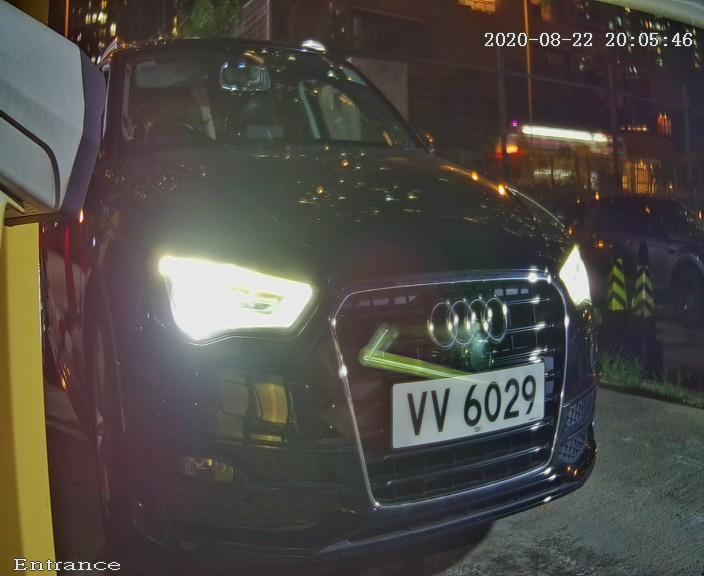Car: (26, 13, 670, 564)
License Plate: (357, 338, 571, 486)
